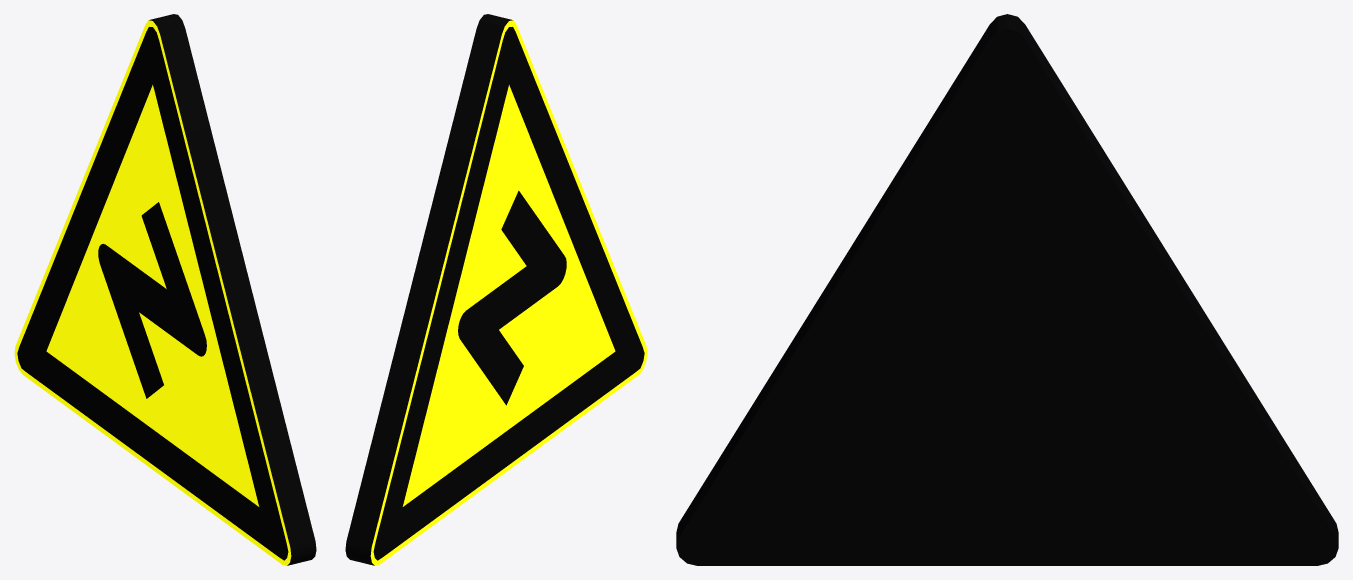
File: Reverse_Detour_Left.glb
The picture shows the model from 3 angles, left to right: view 1: azimuth 30°, elevation 25°; view 2: azimuth 150°, elevation 25°; view 3: azimuth 270°, elevation 25°; orthographic projection. The views are drawn at different scales.
Visible parts, largest first — view 1: Reverse_Detour_Left; view 2: Reverse_Detour_Left; view 3: Reverse_Detour_Left.
Part boxes in pixels (<box>): Reverse_Detour_Left: <box>14,14,316,565</box>; Reverse_Detour_Left: <box>345,14,647,565</box>; Reverse_Detour_Left: <box>676,14,1338,565</box>.
Size of the model in its own units: 0.0643 by 1.02 by 1.14.
